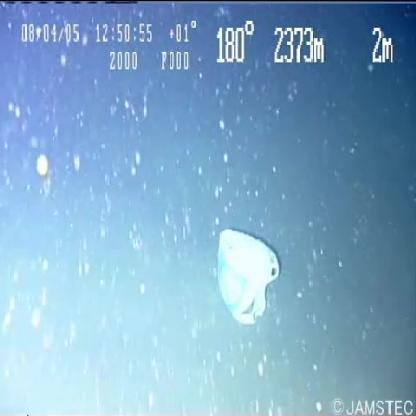Rác: (208, 221, 291, 364)
